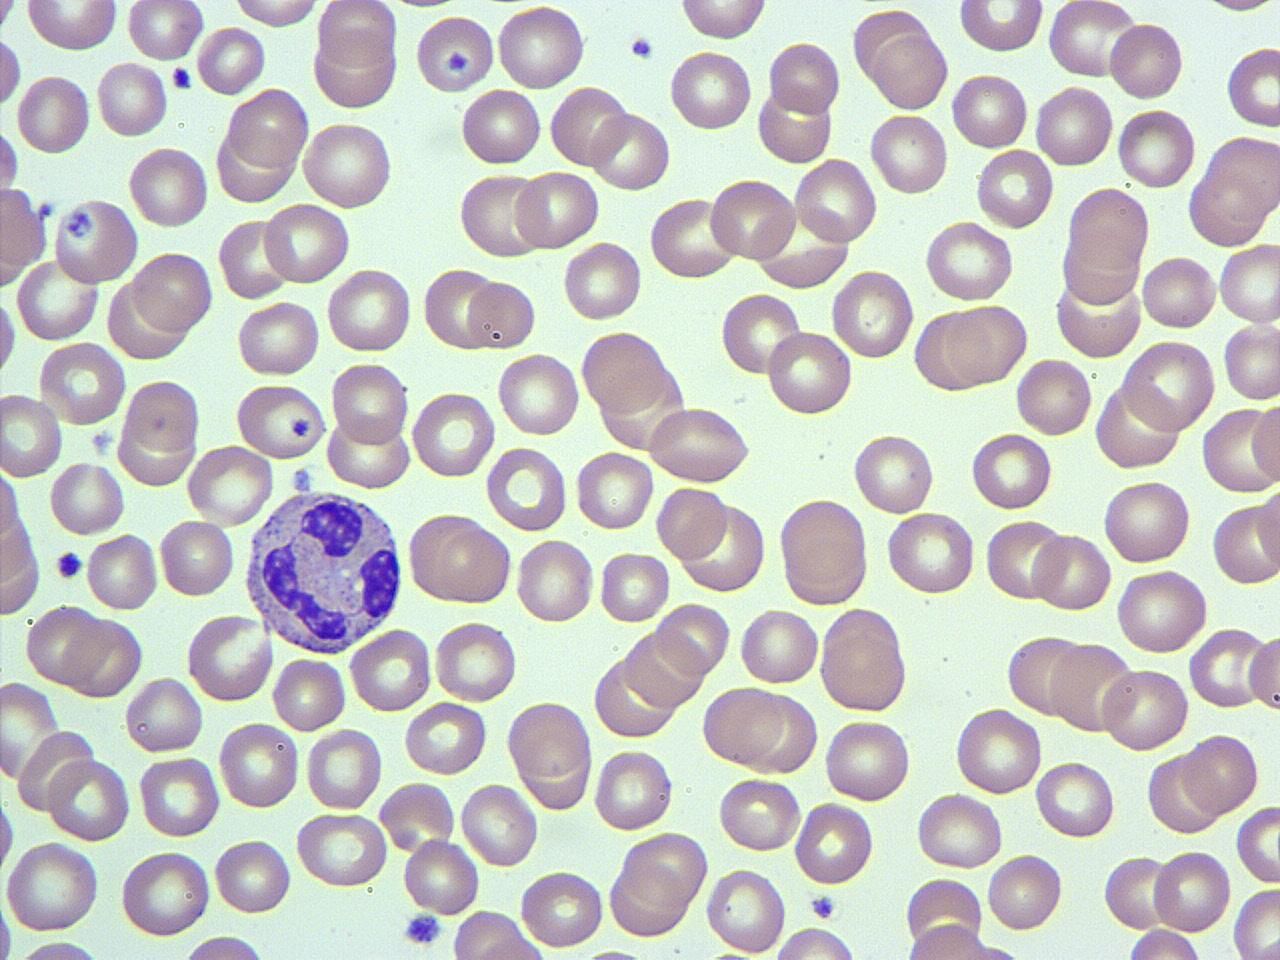Platelets: (400, 910, 444, 948), (55, 549, 85, 581), (809, 892, 839, 920), (629, 33, 657, 61), (91, 427, 117, 456), (169, 65, 194, 93)
RBC: (776, 496, 872, 608), (816, 604, 912, 714), (1, 837, 103, 933), (1119, 337, 1217, 435), (299, 117, 397, 212), (677, 496, 768, 596), (1113, 566, 1211, 658), (118, 846, 213, 939), (184, 609, 274, 707), (1098, 664, 1192, 755), (494, 3, 590, 92), (1048, 638, 1136, 735), (792, 152, 880, 249), (1101, 474, 1193, 566), (953, 704, 1044, 797), (764, 326, 854, 420), (645, 406, 753, 484), (706, 175, 800, 264), (324, 264, 414, 356), (822, 714, 912, 806), (884, 508, 978, 596), (830, 265, 915, 362), (260, 199, 352, 288), (217, 716, 302, 812), (36, 340, 127, 429), (293, 809, 390, 892), (53, 195, 141, 286), (496, 348, 584, 439), (45, 752, 132, 844), (922, 219, 1016, 304), (579, 328, 669, 416), (424, 520, 514, 608), (850, 428, 938, 518), (411, 388, 497, 479), (484, 442, 570, 533), (702, 865, 788, 956), (914, 787, 1006, 872), (234, 380, 329, 462), (184, 440, 273, 527), (1065, 184, 1151, 274), (590, 744, 676, 834), (514, 534, 596, 628), (432, 617, 520, 704), (506, 697, 592, 786), (718, 289, 804, 378), (647, 195, 737, 280), (1115, 102, 1199, 193), (456, 171, 542, 259), (699, 682, 787, 768), (668, 46, 754, 134), (1199, 400, 1277, 497), (329, 358, 411, 450), (512, 167, 601, 251), (867, 109, 951, 198), (1151, 845, 1233, 936), (459, 778, 540, 870), (982, 515, 1067, 602), (235, 296, 322, 381), (13, 256, 101, 340), (348, 626, 432, 714), (588, 107, 672, 195), (302, 724, 384, 814), (1045, 0, 1137, 80), (969, 428, 1054, 514), (943, 302, 1030, 386), (794, 798, 877, 886), (561, 236, 644, 324), (517, 868, 606, 950), (624, 826, 710, 910), (1034, 756, 1118, 842), (137, 754, 220, 840), (413, 11, 496, 97), (127, 143, 209, 230), (65, 612, 146, 700), (401, 698, 490, 778), (24, 602, 107, 687), (131, 248, 213, 334), (716, 774, 802, 856), (735, 607, 822, 688), (756, 79, 836, 167), (1006, 632, 1088, 717), (1034, 83, 1114, 170), (227, 87, 310, 170), (574, 448, 656, 532), (1012, 354, 1093, 439), (1181, 730, 1261, 816), (1032, 528, 1112, 614), (975, 146, 1055, 232), (1139, 251, 1221, 334), (212, 834, 294, 917), (950, 69, 1031, 153), (124, 672, 205, 756), (310, 33, 398, 110), (324, 416, 413, 492), (1188, 626, 1268, 710), (15, 70, 92, 157), (422, 264, 498, 352), (459, 87, 542, 167), (158, 516, 237, 600), (986, 850, 1065, 934), (548, 83, 626, 168), (0, 677, 62, 783), (47, 456, 127, 538), (606, 860, 689, 939), (270, 652, 348, 736), (84, 530, 161, 614), (1108, 19, 1184, 104), (378, 776, 458, 856), (1148, 748, 1222, 834), (123, 376, 203, 455), (401, 837, 481, 916), (217, 215, 290, 301), (872, 33, 950, 113), (1210, 499, 1280, 588), (95, 57, 170, 140), (768, 38, 844, 119), (314, 0, 400, 70), (654, 483, 730, 562), (656, 599, 732, 678), (0, 389, 65, 481), (597, 547, 671, 626), (465, 276, 538, 352), (1103, 853, 1173, 932), (1217, 238, 1279, 327), (23, 0, 121, 54), (125, 0, 206, 64), (195, 24, 266, 97), (1224, 42, 1280, 130), (1221, 318, 1279, 402), (957, 0, 1045, 54), (900, 922, 1014, 960), (449, 908, 532, 960), (674, 0, 771, 44), (1234, 802, 1280, 888), (1230, 882, 1278, 960), (771, 924, 865, 960), (1245, 627, 1279, 718), (228, 0, 323, 30), (179, 932, 278, 960), (1122, 927, 1206, 960), (1250, 401, 1280, 486), (1253, 485, 1280, 576), (6, 938, 112, 960), (0, 28, 24, 112), (0, 287, 18, 384), (0, 784, 17, 886)
WBC: (240, 480, 408, 656)
